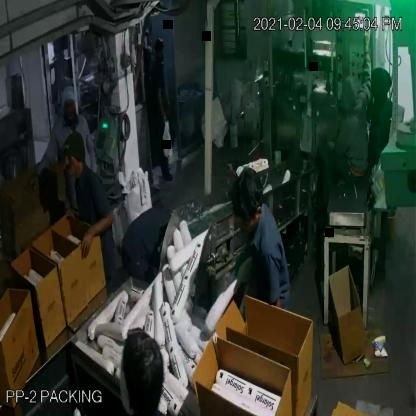no_glove: (76, 210, 119, 264), (356, 19, 377, 98)
